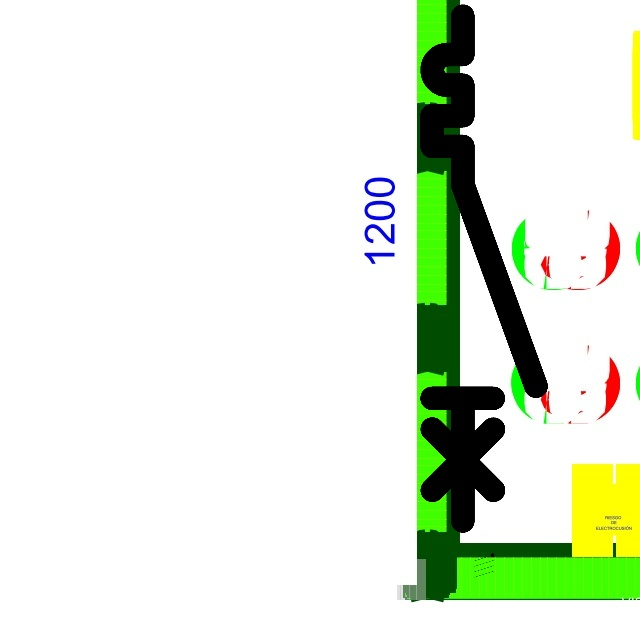interruptor_termomagnetico: (419, 3, 549, 534)
